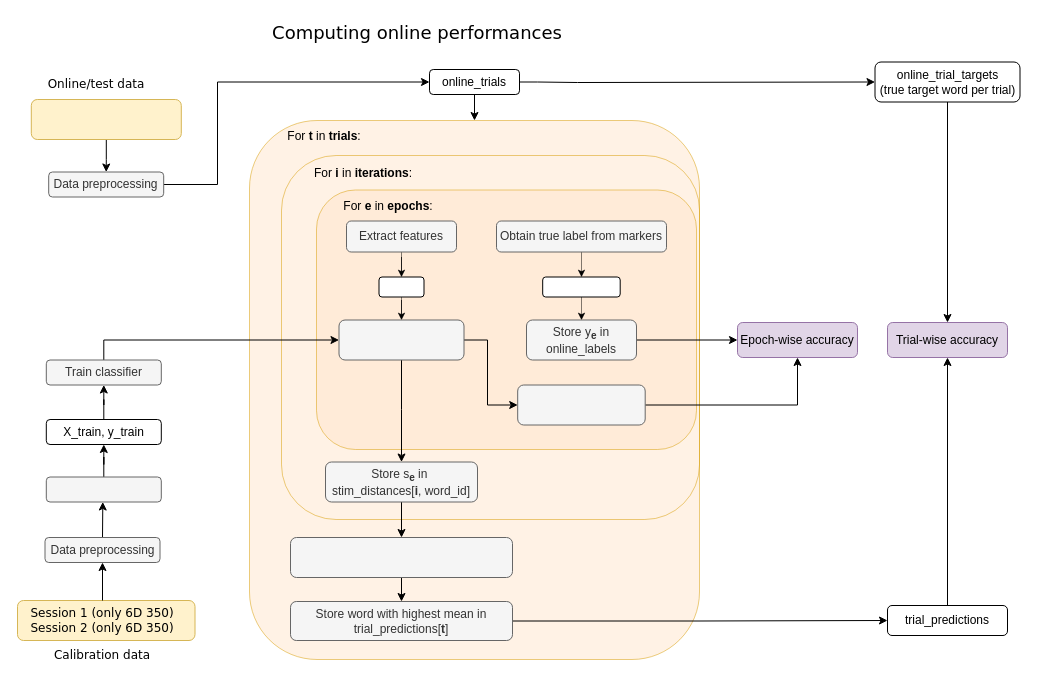
Some shapes in this 1038 by 687 pixel diagram are drawn without their labels. Here are the shapes that lost their labels. From the top down, the box of each, then its label:
(30, 98, 181, 140): Session 3 (all 6D 350)
(378, 276, 424, 297): x e
(542, 276, 620, 297): y e ∈ {0,1}
(338, 319, 464, 360): Compute s e : distance to decision boundary
(517, 384, 645, 425): Store s e in signed_distances
(45, 476, 161, 502): Feature extraction
(290, 536, 512, 578): Compute the mean for each word_id in stim_distances
